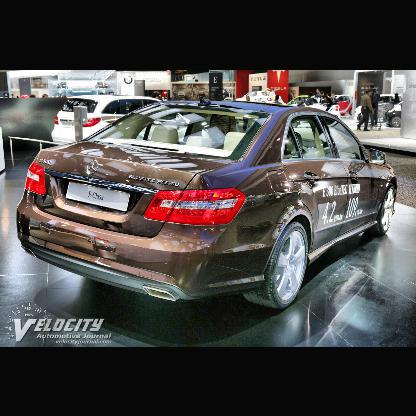Mercedes-Benz E-Class Sedan 2012: (17, 98, 399, 307)
